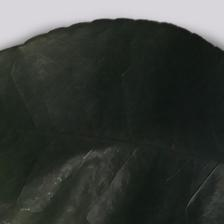healthy: (5, 37, 224, 224)
